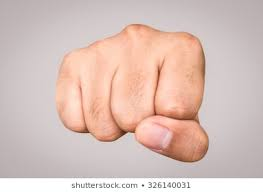click: (48, 21, 221, 174)
